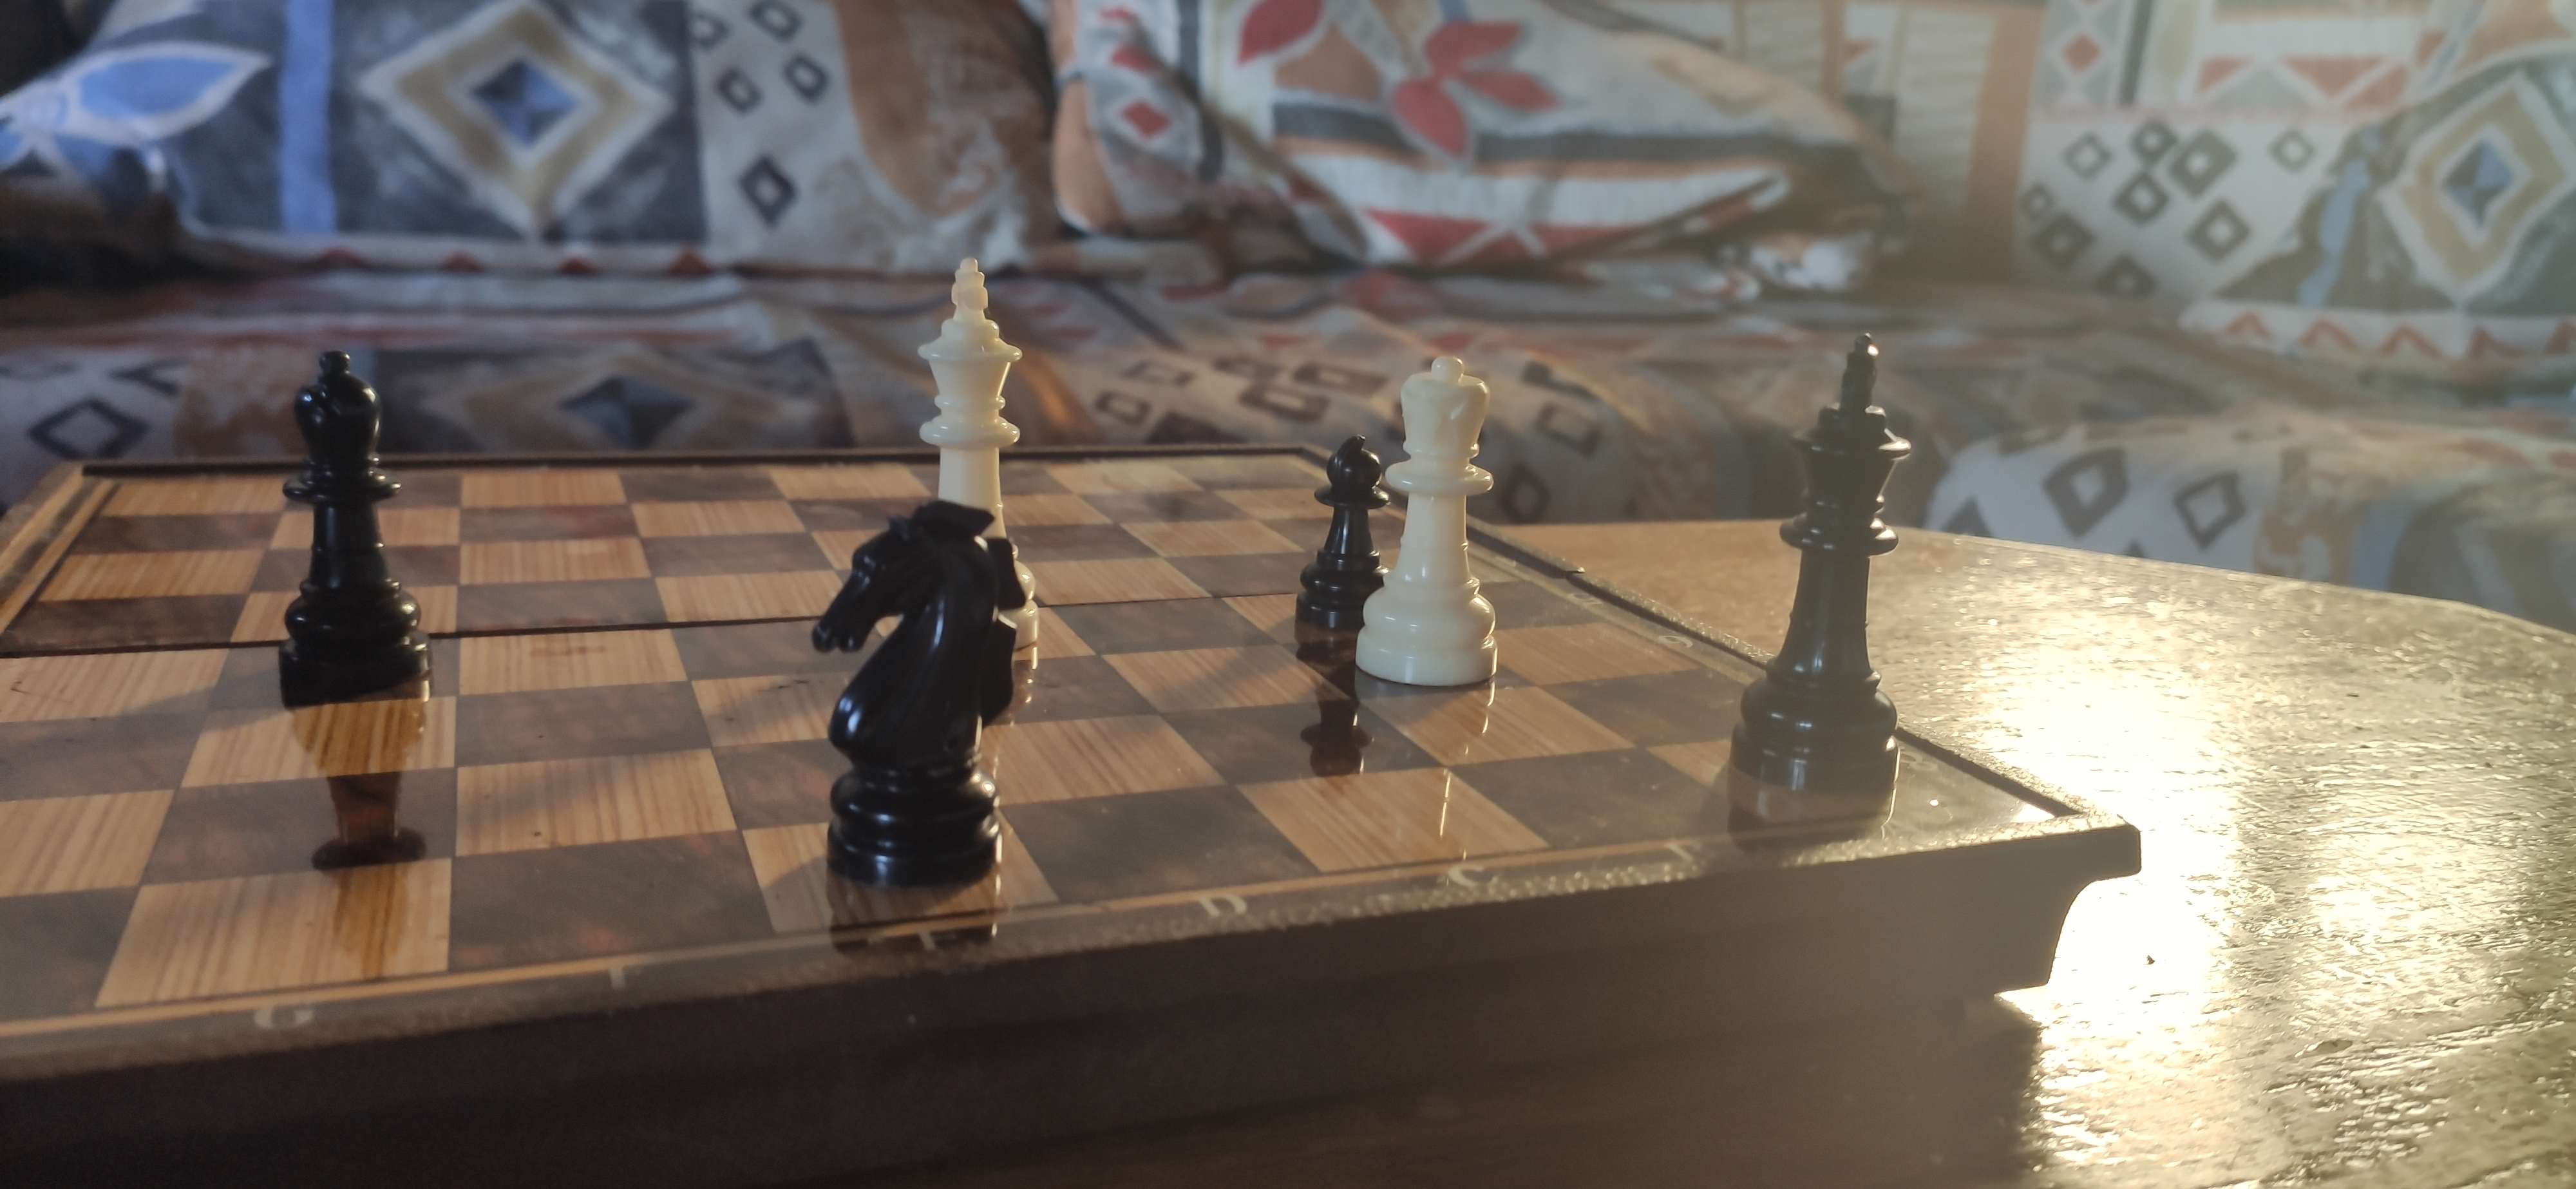BB: (261, 343, 444, 688)
BK: (1737, 314, 1917, 788)
BN: (808, 499, 1023, 885)
BP: (1293, 427, 1385, 622)
WK: (918, 251, 1025, 507)
WQ: (1380, 347, 1503, 682)
